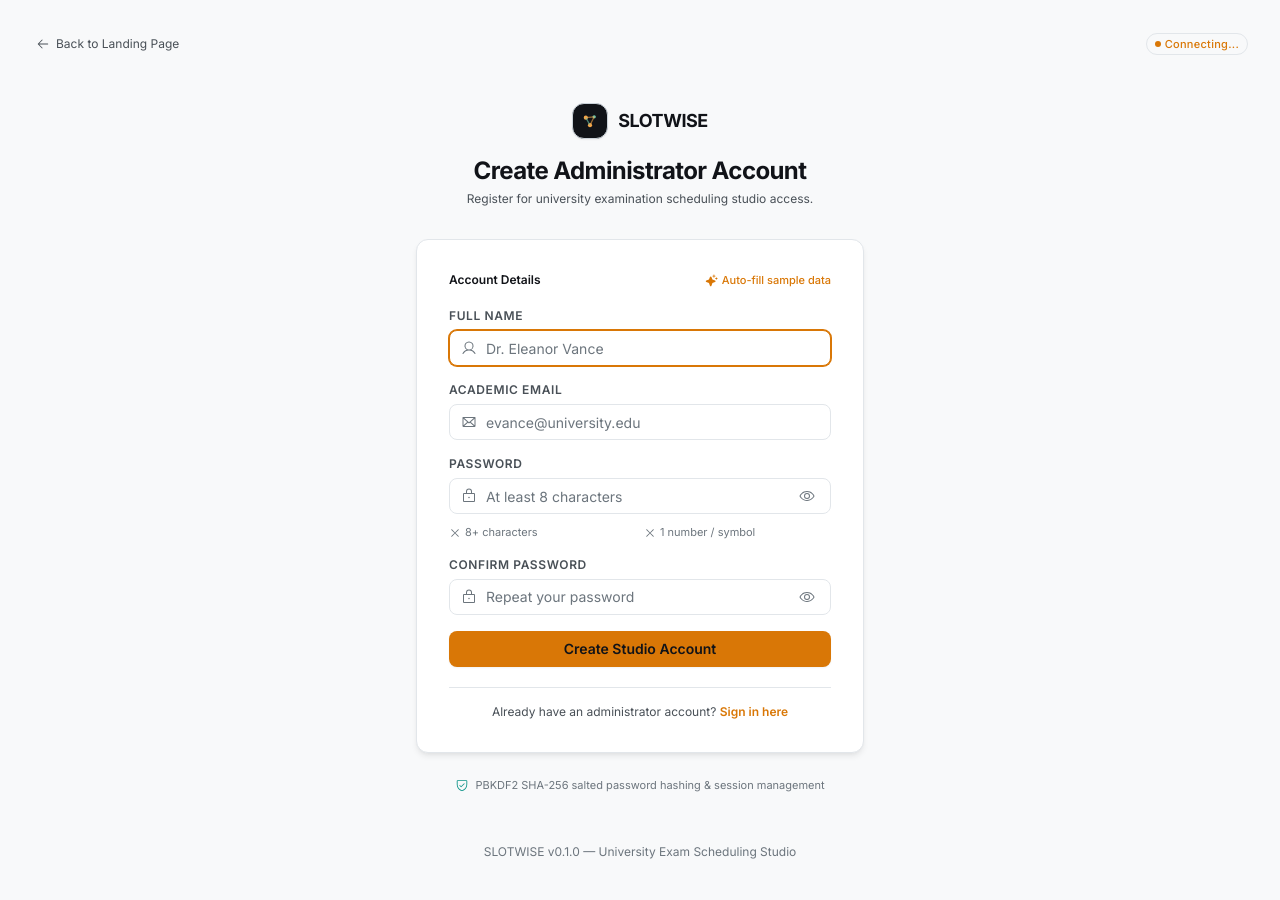
Test case: Authentication & Protected Routes › Signup Form Validation › validates required fields on signup
The image size is (1280, 900).
Click the button "Create Studio Account": [640, 649] box [449,631,831,667]
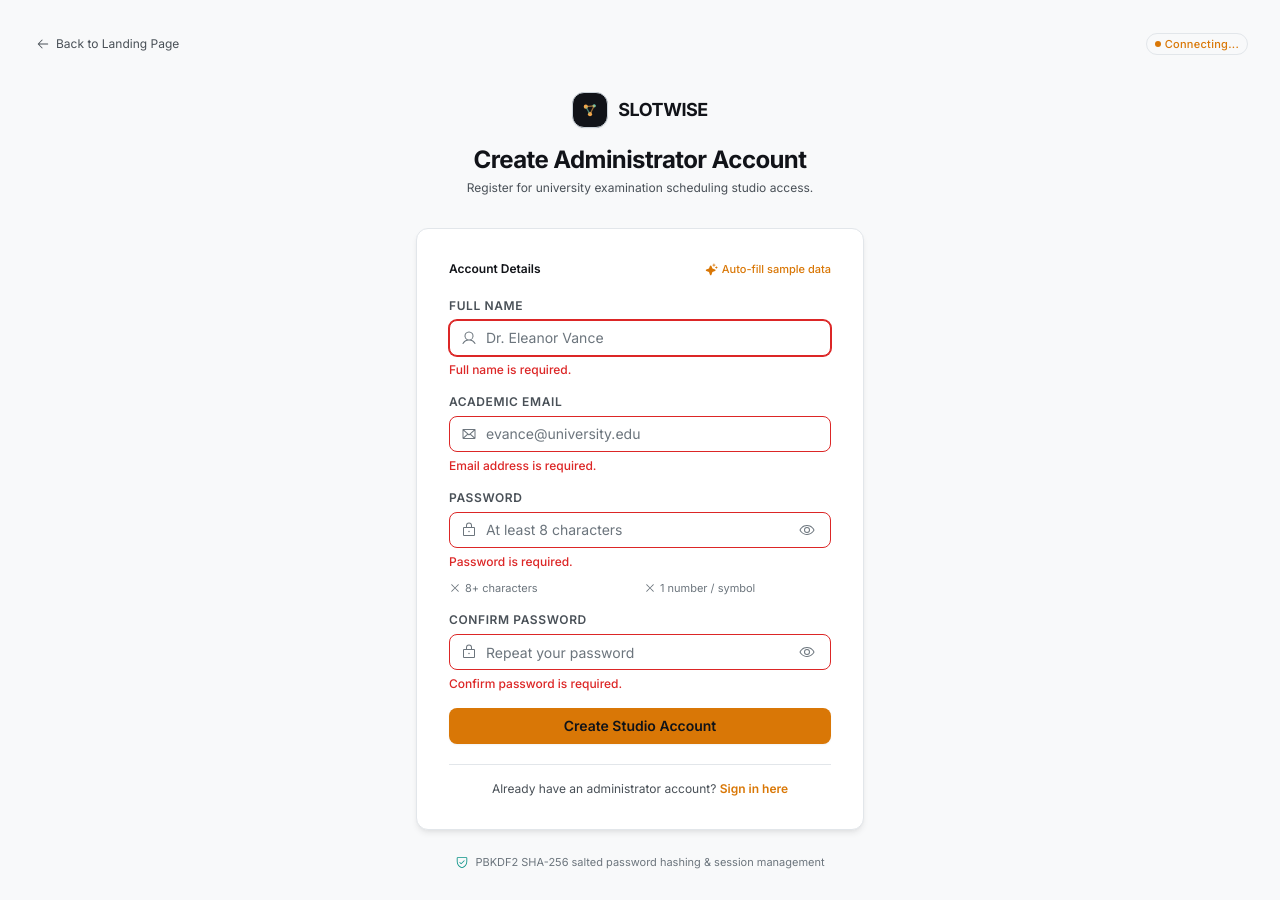
Check: the text "Full name is required." is shown, box [449,362,571,376]
Check: the text "Email address is required." is shown, box [449,458,596,472]
Check: the text "Password is required." is shown, box [449,554,573,568]
